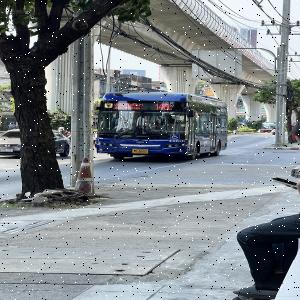Bus Line Number: (153, 102, 177, 111)
Bus Side Number: (167, 139, 186, 143)
Destination Sign: (111, 101, 146, 112)
TSB-Bus: (96, 92, 228, 160)
